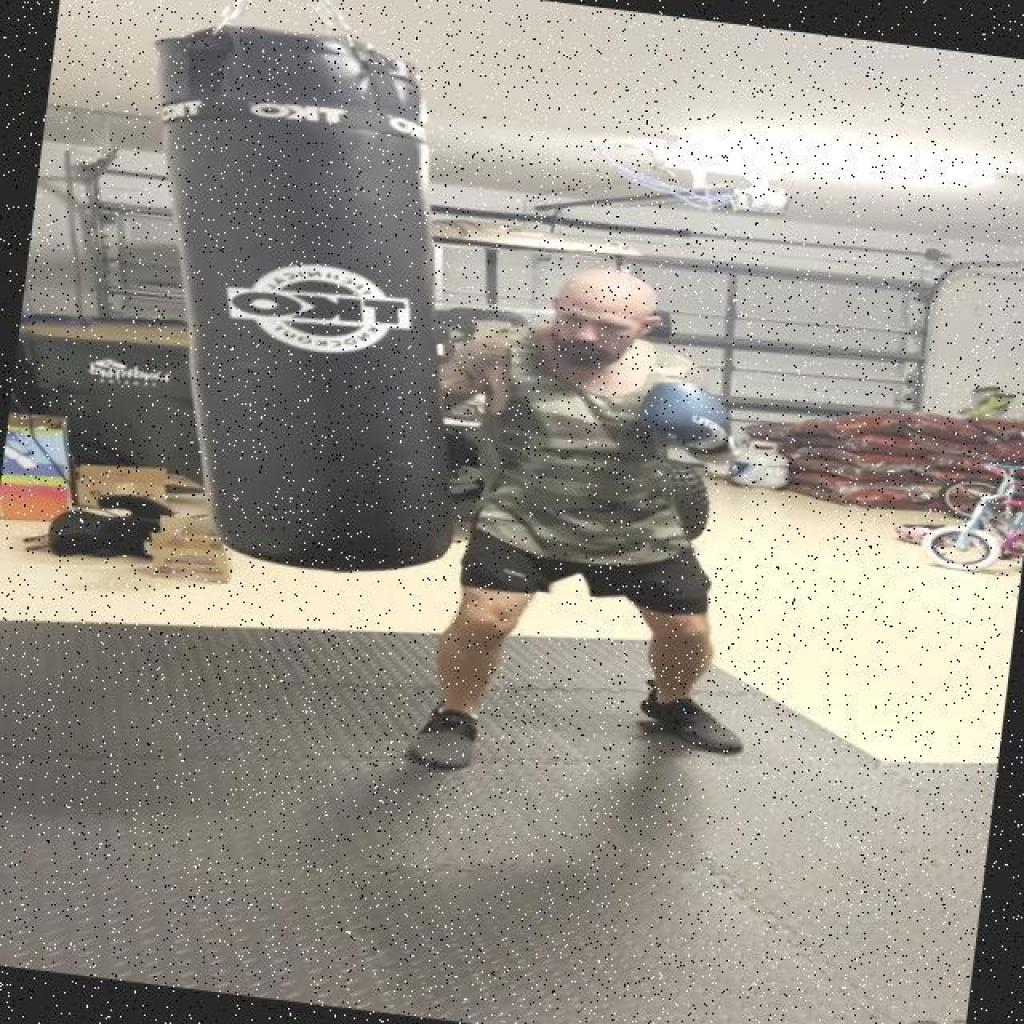bag: (114, 3, 459, 586)
hook: (395, 229, 770, 494)
